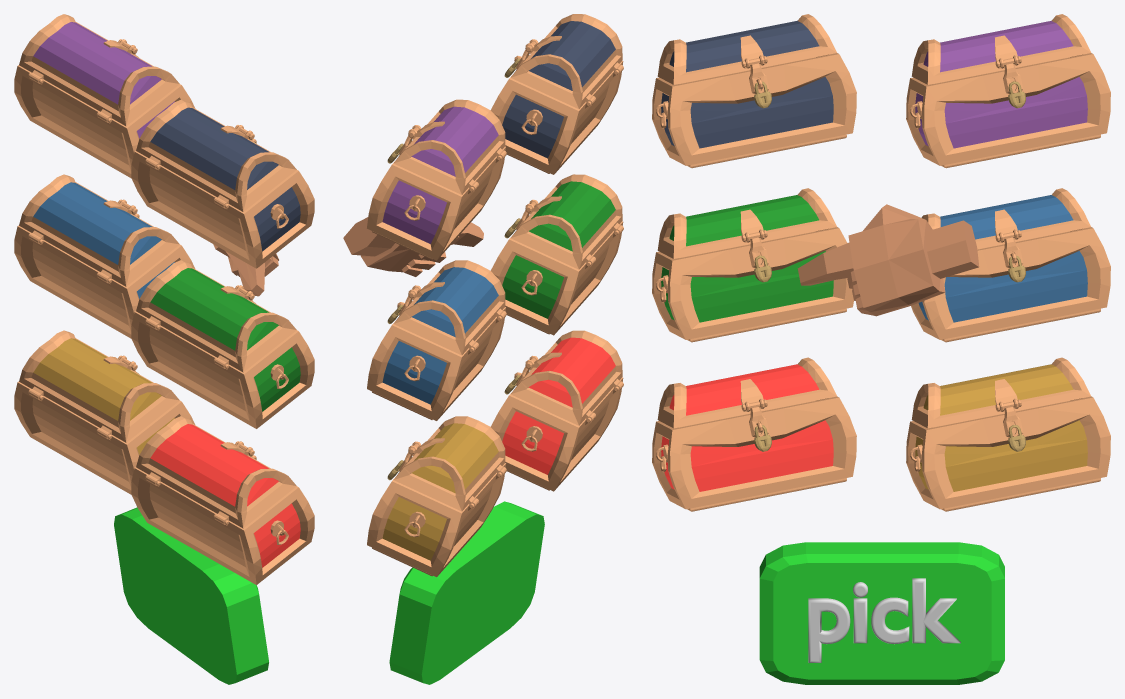
The model's file is sandksecimi.fbx.
3 renders of one model, left to right at view 1: azimuth 30°, elevation 25°; view 2: azimuth 150°, elevation 25°; view 3: azimuth 270°, elevation 25°, orthographic. The views are drawn at different scales.
Visible parts, largest first — view 1: c2.001, Cube.019, Cube.020; view 2: c2.001, Cube.019, Cube.020; view 3: c2.001, Cube.019, Cube.020, Text.
Boxes of the visible parts, <box> form: c2.001: <box>14,14,314,584</box>; Cube.019: <box>114,507,268,684</box>; Cube.020: <box>213,244,278,296</box>; c2.001: <box>367,14,623,577</box>; Cube.019: <box>389,501,544,684</box>; Cube.020: <box>343,217,483,276</box>; c2.001: <box>652,14,1110,511</box>; Cube.019: <box>759,542,1004,684</box>; Cube.020: <box>797,204,979,316</box>; Text: <box>808,578,960,662</box>.
Bounding box in the file's own units: 317 × 1024 × 671.
